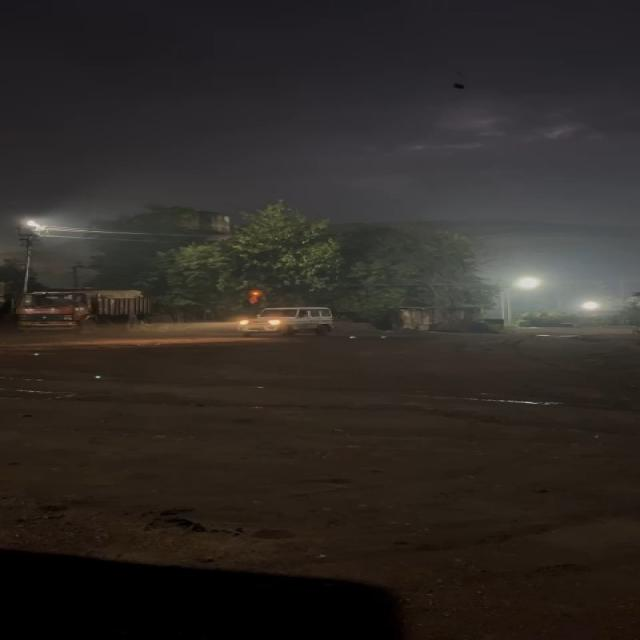light_vehicle: (241, 304, 335, 338)
